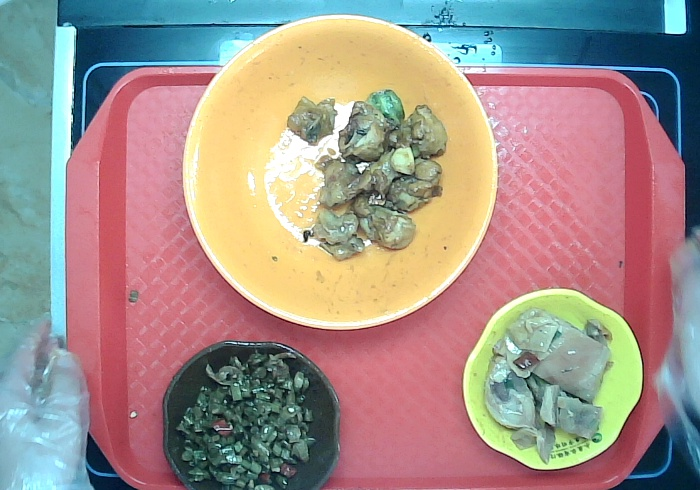YKMZ-Huang_Se_Ao_Bian_Wan: (456, 279, 655, 475)
YKMZ-Ju_Se_Tang_Wan: (178, 16, 508, 348)
YKMZ-Ka_Fei_Ao_Bian_Wan: (152, 336, 343, 490)
